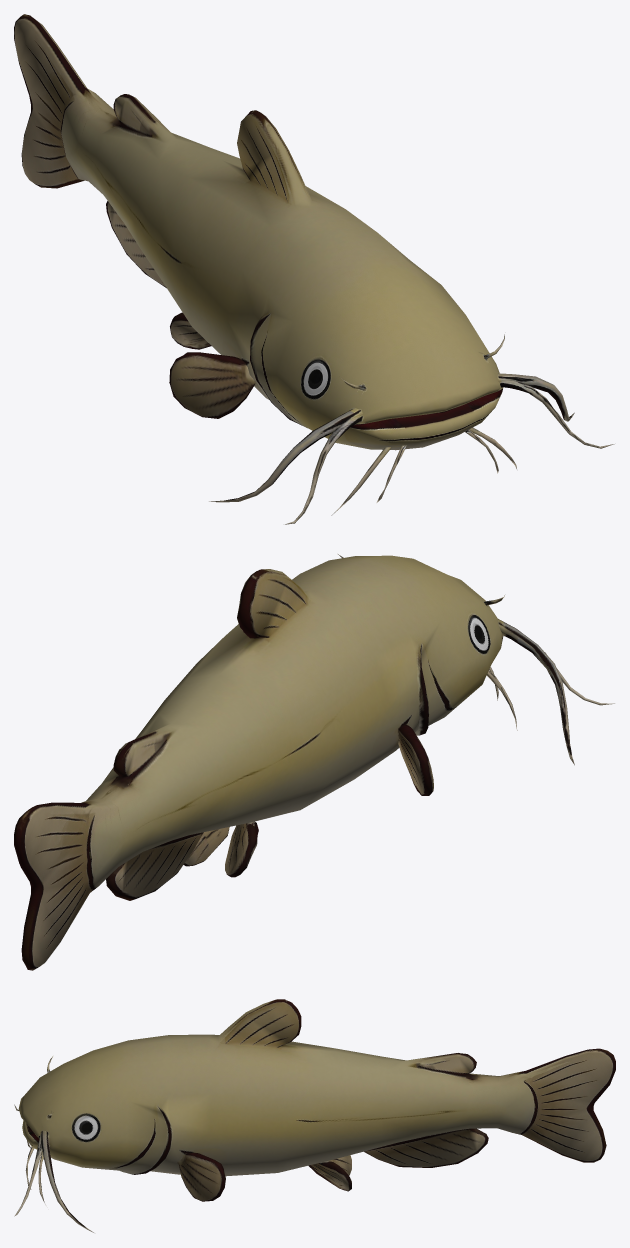
Rendered from catfish_01.fbx.
The picture shows the model from 3 angles, top to bottom: view 1: azimuth 30°, elevation 25°; view 2: azimuth 150°, elevation 25°; view 3: azimuth 270°, elevation 25°; orthographic projection. The views are drawn at different scales.
Visible parts, largest first — view 1: catfish_01; view 2: catfish_01; view 3: catfish_01.
Part boxes in pixels (bbox=[...]): catfish_01: bbox=[14, 14, 614, 524]; catfish_01: bbox=[14, 554, 614, 970]; catfish_01: bbox=[14, 999, 615, 1232].
Bounding box in the file's own units: 49.02 × 33.79 × 99.8.
